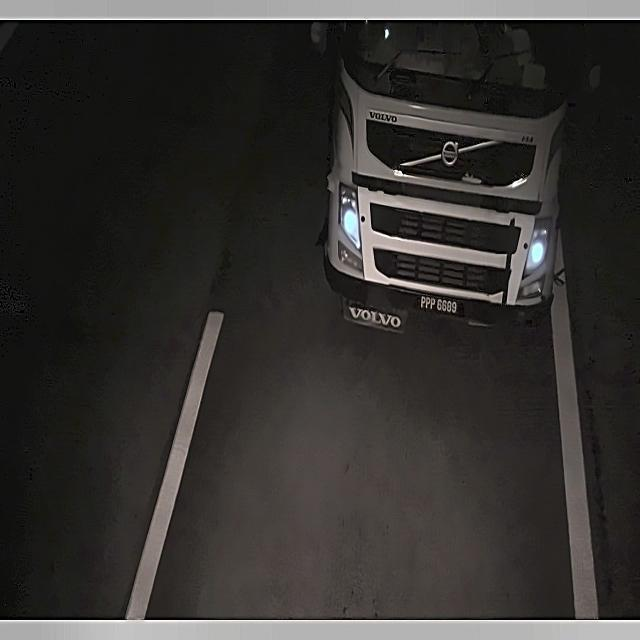car: (411, 286, 469, 323)
